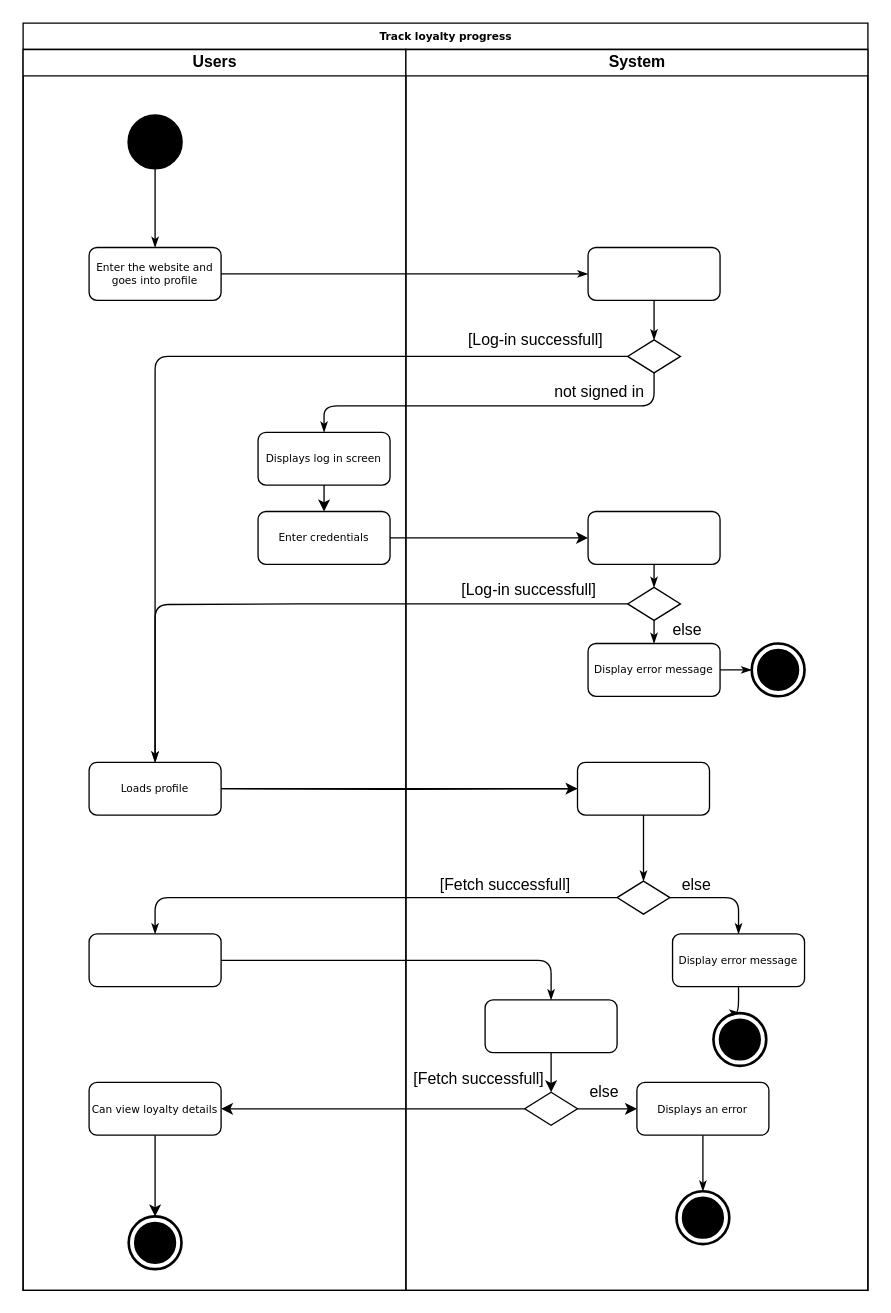
The diagram is 891 pixels wide and 1313 high, and some of its shapes have lost their labels. The shapes that lost their labels are listed below. From the top down, each one's centre as x and y in pixels, then its label:
At (x=653, y=273): "Checks if user is signed in".
At (x=653, y=537): "Check user information, and log in details".
At (x=643, y=788): "Fetches profile data".
At (x=154, y=960): "Enters loyalty section".
At (x=550, y=1026): "Fetches loyalty data".
